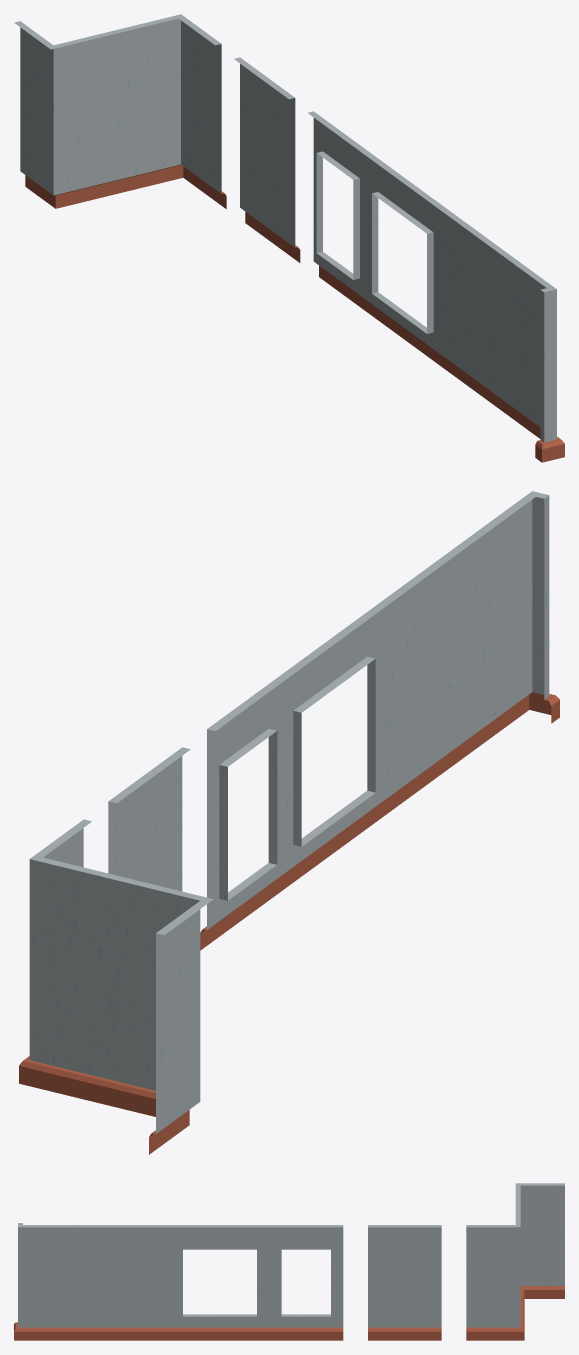
File: Sparcle_walls_inside.fbx
The picture shows the model from 3 angles, top to bottom: view 1: azimuth 30°, elevation 25°; view 2: azimuth 150°, elevation 25°; view 3: azimuth 270°, elevation 25°; orthographic projection. The views are drawn at different scales.
Parts seen in each view (by area): view 1: Wall_Inside_outerCorner, Wall_Inside_innerCorner, Wall_Inside_2meters, Wall_Inside_1.5meter, Wall_Inside_BigWindow, Wall_Inside_smallWindow, Wall_Inside_1meter, Wall_Inside_End; view 2: Wall_Inside_outerCorner, Wall_Inside_2meters, Wall_Inside_innerCorner, Wall_Inside_BigWindow, Wall_Inside_smallWindow, Wall_Inside_1meter, Wall_Inside_1.5meter, Wall_Inside_End; view 3: Wall_Inside_2meters, Wall_Inside_1.5meter, Wall_Inside_BigWindow, Wall_Inside_outerCorner, Wall_Inside_1meter, Wall_Inside_smallWindow, Wall_Inside_innerCorner, Wall_Inside_End.
Boxes of the visible parts, <box> form: Wall_Inside_outerCorner: <box>108,14,226,208</box>; Wall_Inside_innerCorner: <box>14,21,113,208</box>; Wall_Inside_2meters: <box>436,205,521,424</box>; Wall_Inside_1.5meter: <box>234,57,300,262</box>; Wall_Inside_BigWindow: <box>363,152,447,370</box>; Wall_Inside_smallWindow: <box>308,111,373,316</box>; Wall_Inside_1meter: <box>510,259,552,438</box>; Wall_Inside_End: <box>535,286,564,462</box>; Wall_Inside_outerCorner: <box>19,819,127,1107</box>; Wall_Inside_2meters: <box>372,531,485,824</box>; Wall_Inside_innerCorner: <box>119,878,213,1154</box>; Wall_Inside_BigWindow: <box>274,603,387,896</box>; Wall_Inside_smallWindow: <box>200,675,288,950</box>; Wall_Inside_1meter: <box>471,494,535,751</box>; Wall_Inside_1.5meter: <box>108,747,190,891</box>; Wall_Inside_End: <box>520,491,559,723</box>; Wall_Inside_2meters: <box>72,1225,170,1340</box>; Wall_Inside_1.5meter: <box>368,1225,441,1340</box>; Wall_Inside_BigWindow: <box>170,1225,269,1340</box>; Wall_Inside_outerCorner: <box>466,1204,524,1340</box>; Wall_Inside_1meter: <box>23,1225,71,1340</box>; Wall_Inside_smallWindow: <box>269,1225,343,1340</box>; Wall_Inside_innerCorner: <box>515,1183,564,1306</box>; Wall_Inside_End: <box>14,1223,22,1340</box>.
Bounding box in the file's own units: 218 × 250 × 1118.
